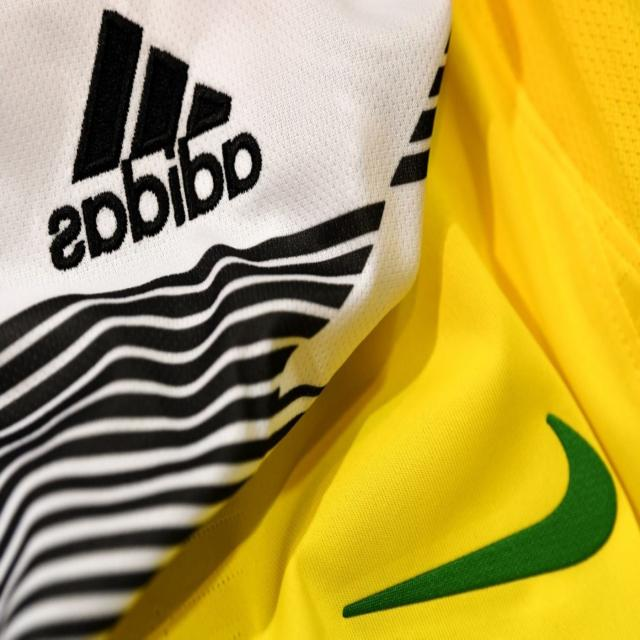nike: (336, 411, 621, 628)
